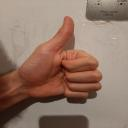ThumbsUp: (19, 14, 108, 108)
